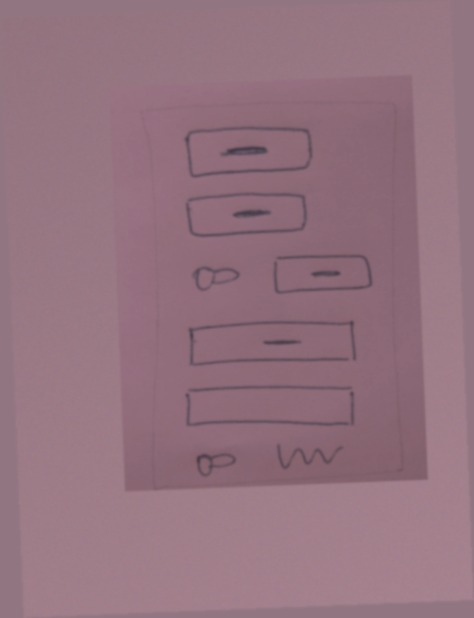button: (180, 314, 361, 370), (179, 183, 322, 252), (176, 117, 319, 185), (267, 246, 381, 297)
switch: (188, 258, 241, 293), (190, 445, 242, 480)
text: (272, 436, 349, 474)
text_input: (180, 377, 358, 436)
